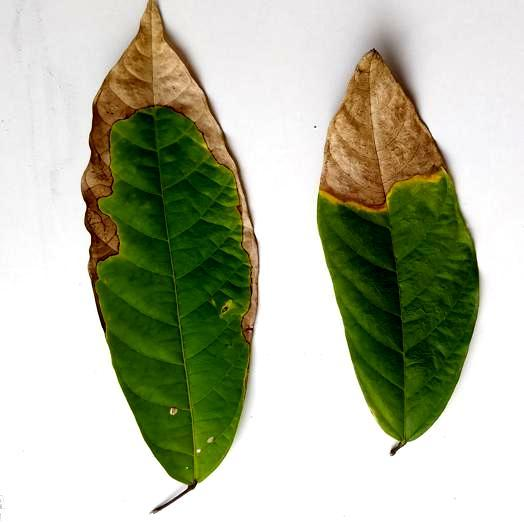Potassium: (82, 0, 257, 511), (317, 50, 478, 453)
